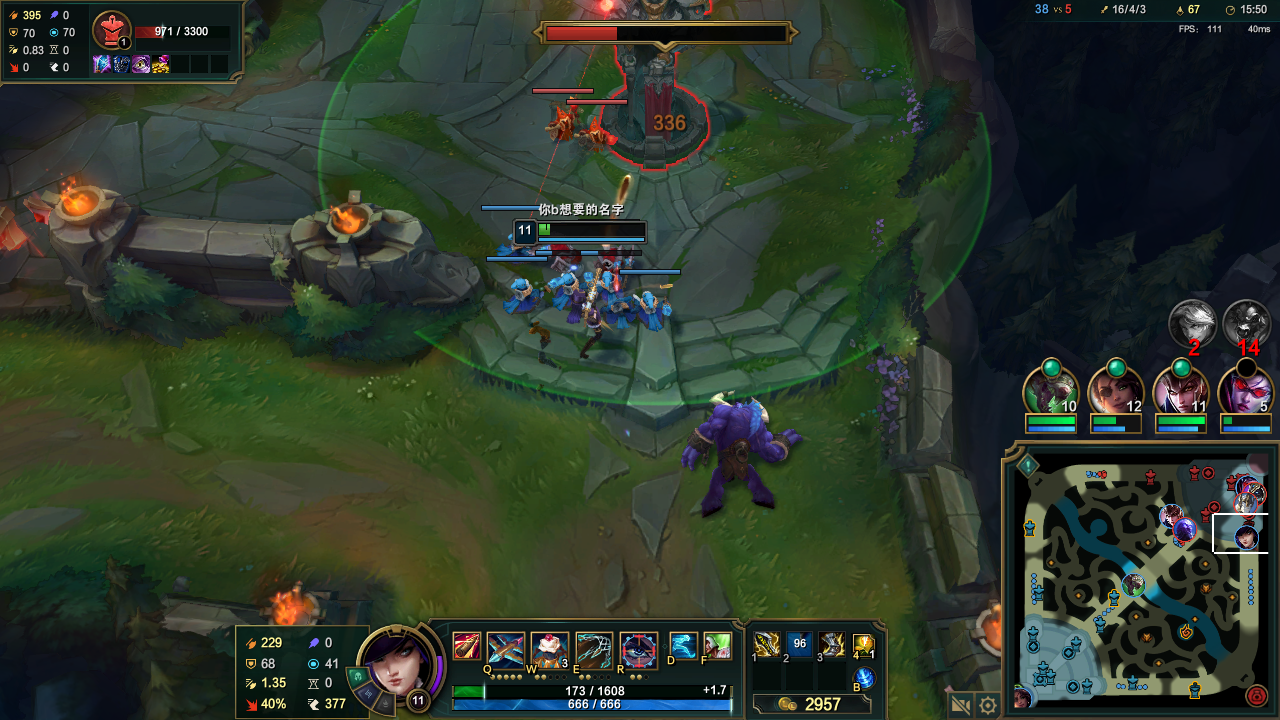DFFYT: (540, 26, 727, 156)
DFXB: (576, 123, 611, 152), (544, 107, 571, 142)
WFXB: (631, 286, 670, 331), (547, 265, 588, 304), (505, 274, 540, 312), (502, 242, 534, 268), (602, 263, 631, 290)
